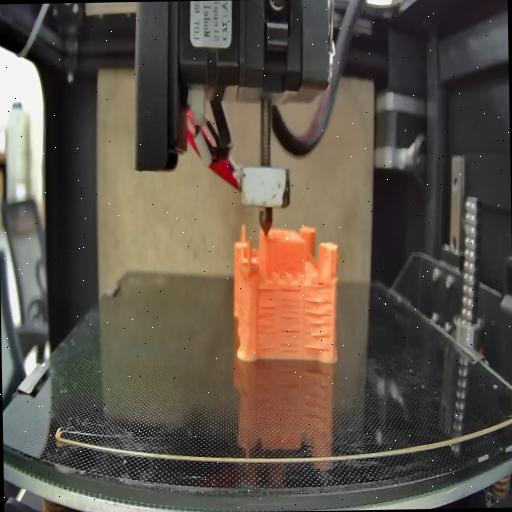cracks: (304, 299, 331, 353), (256, 304, 276, 352), (278, 289, 303, 324), (280, 330, 300, 354), (258, 284, 273, 298), (314, 282, 328, 288)
